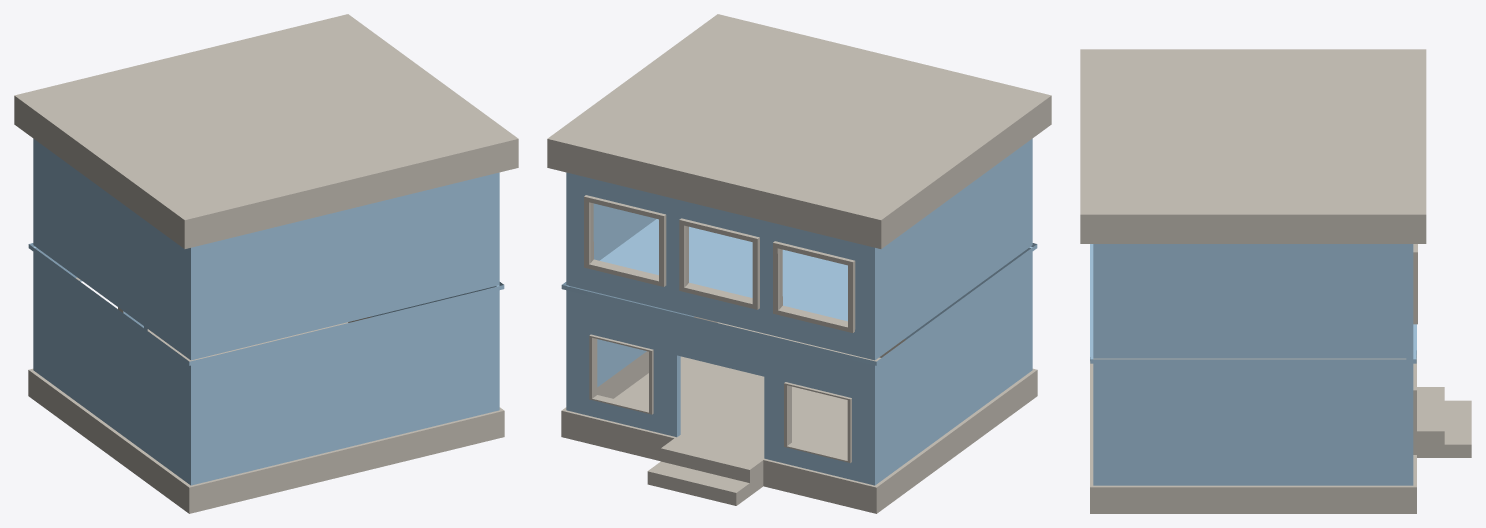
The model's file is Bld_R_med_L2_B.fbx.
The picture shows the model from 3 angles, left to right: view 1: azimuth 30°, elevation 25°; view 2: azimuth 150°, elevation 25°; view 3: azimuth 270°, elevation 25°; orthographic projection.
Parts seen in each view (by area): view 1: Bld_R_med_L2_B_LOD0; view 2: Bld_R_med_L2_B_LOD0; view 3: Bld_R_med_L2_B_LOD0.
Boxes of the visible parts, x1=… form: Bld_R_med_L2_B_LOD0: x1=14, y1=14, x2=518, y2=513; Bld_R_med_L2_B_LOD0: x1=547, y1=14, x2=1051, y2=513; Bld_R_med_L2_B_LOD0: x1=1080, y1=49, x2=1471, y2=513.
Size of what is drawn, in the model's own units: 1400 by 1500 by 1400.
1 material, 1 textured.
